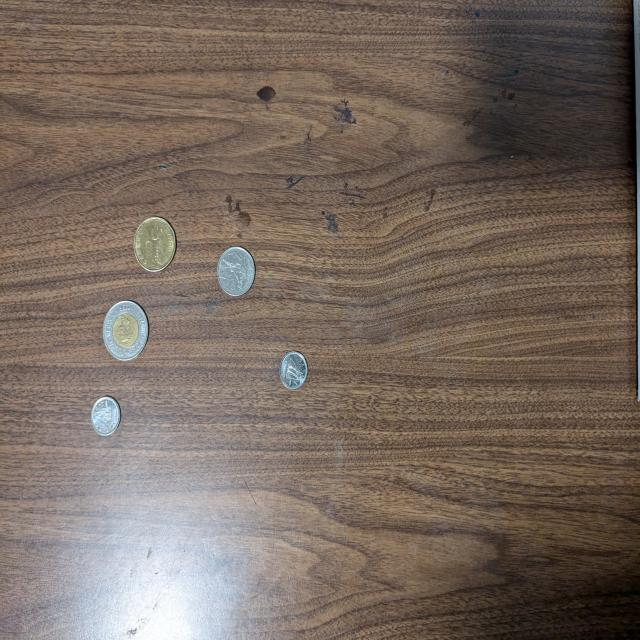dime: (91, 399, 122, 436), (281, 350, 308, 391)
loonie: (135, 216, 176, 274)
quarter: (217, 248, 256, 297)
toonie: (102, 301, 149, 364)
